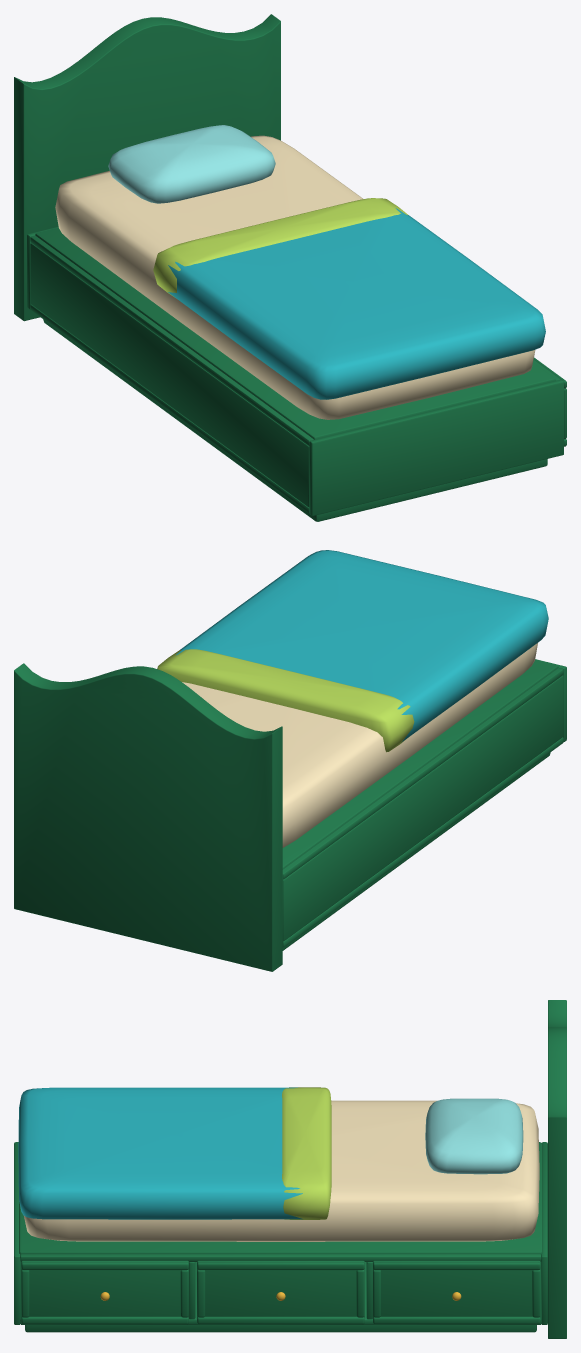
The model's file is cama_solteiro_gavetas_verde.glb.
3 views of the same model, one above another, from view 1: azimuth 30°, elevation 25°; view 2: azimuth 150°, elevation 25°; view 3: azimuth 270°, elevation 25° (orthographic). The views are drawn at different scales.
Visible parts, largest first — view 1: cama_solteiro_gavetas_verde; view 2: cama_solteiro_gavetas_verde; view 3: cama_solteiro_gavetas_verde, gaveta_1, gaveta_2, gaveta_3.
Boxes of the visible parts, box(x1,y1,x2,y2) form: cama_solteiro_gavetas_verde: box(14, 14, 563, 521); cama_solteiro_gavetas_verde: box(14, 550, 566, 971); cama_solteiro_gavetas_verde: box(14, 1000, 566, 1338); gaveta_1: box(21, 1260, 188, 1324); gaveta_2: box(197, 1260, 364, 1324); gaveta_3: box(373, 1260, 540, 1324).
Bounding box in the file's own units: 1.07 × 1 × 2.03.
1 material, 1 textured.
